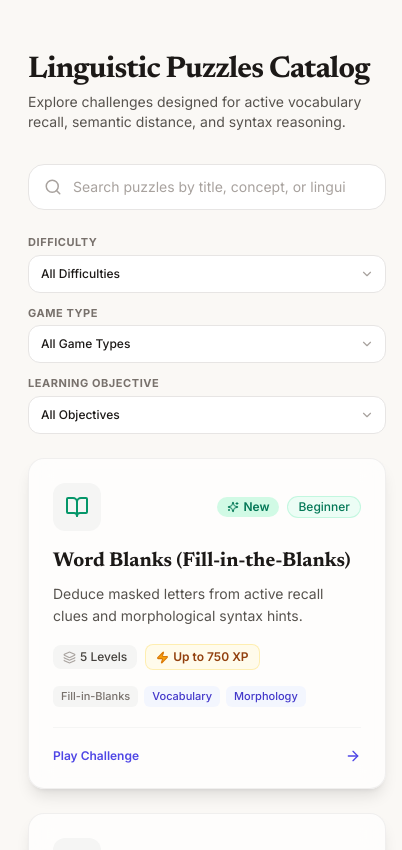
PuzzlesPage Dynamic Catalog & URL Search Parameter Synchronization › filters puzzles by learning objective and updates URL search params
This screenshot has width=402, height=850.
Step 1. Select "Etymology" in the dropdown named "Filter by learning objective" → coordinates (207, 414), box [28,396,386,434]
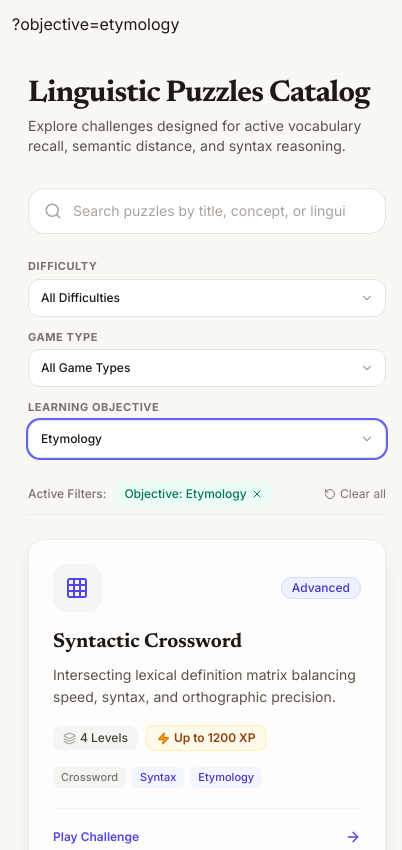
Expected: the heading "Syntactic Crossword" is shown, [53,632,242,652]
Expected: the link "Word Blanks (Fill-in-the-Blanks)" is gone
Expected: the text with test id "current-search-params" shows "objective=etymology", [12,14,179,34]
